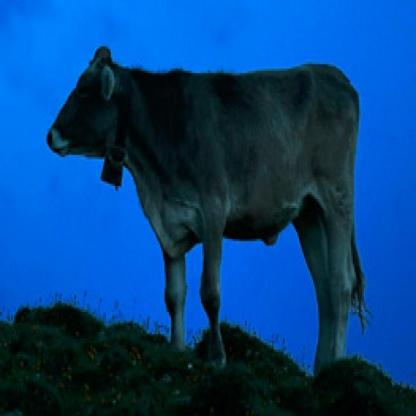cow: (47, 61, 360, 367)
